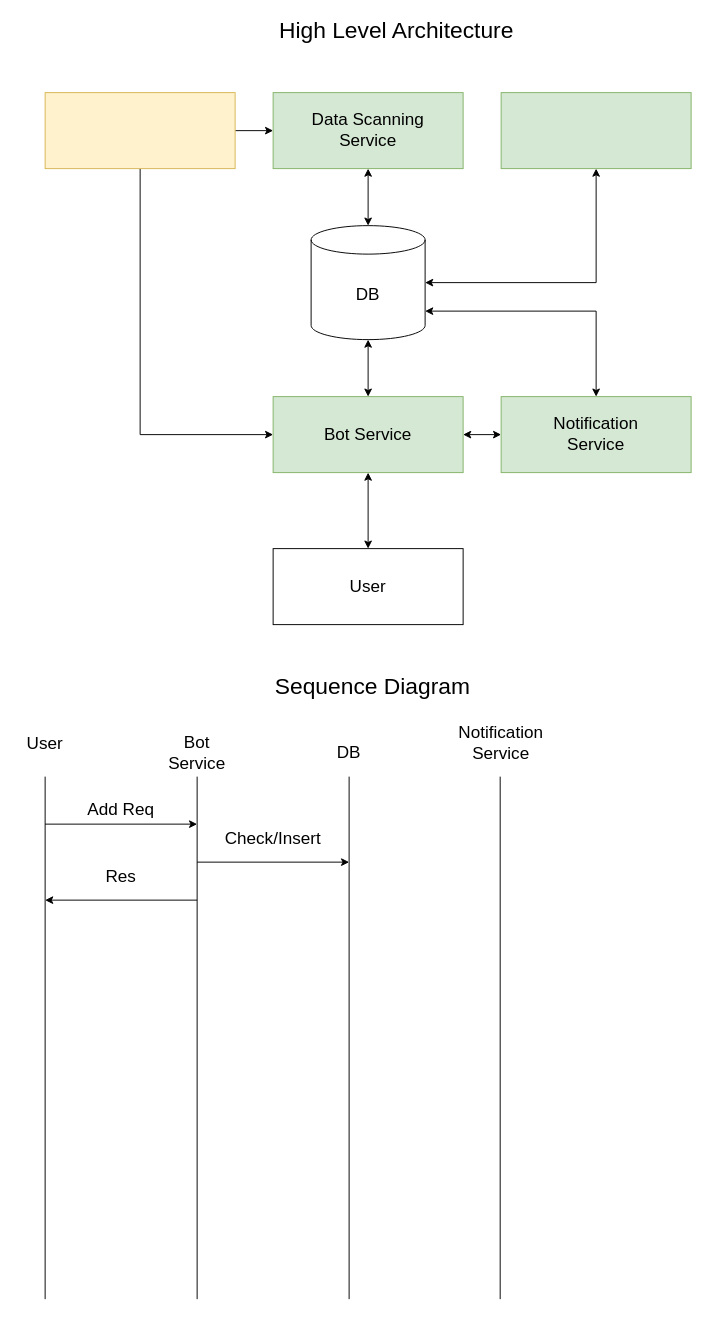
The diagram is 708 pixels wide and 1317 high, and some of its shapes have lost their labels. The shapes that lost their labels are listed below. From the top down, each one's centre as x and y in pixels, then its label:
the point at 139,130: Telegram API
the point at 595,130: Analytic Service
